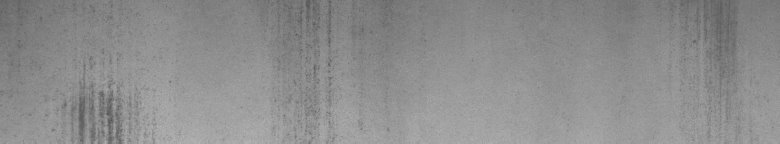ka: (54, 52, 128, 136)
